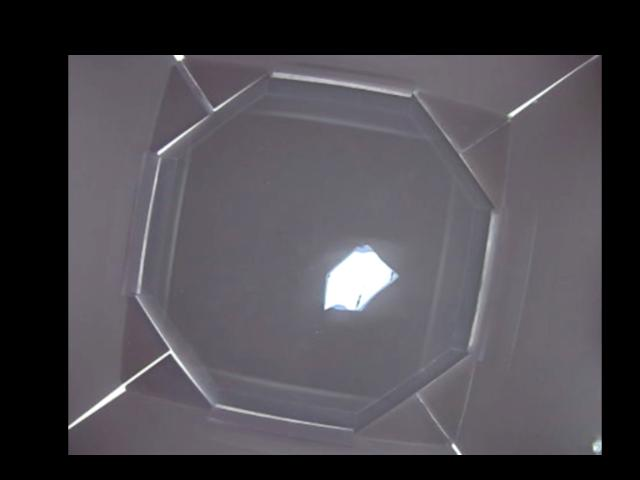China: (322, 243, 398, 313)
